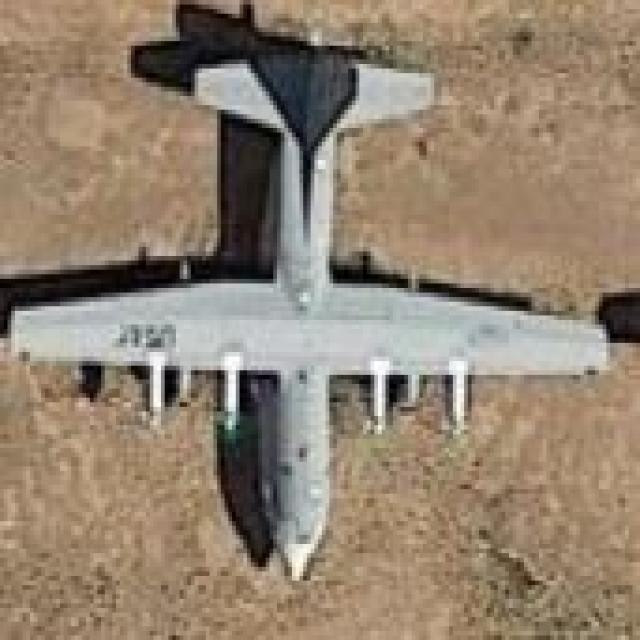C-130_TopDown: (0, 2, 619, 581)
